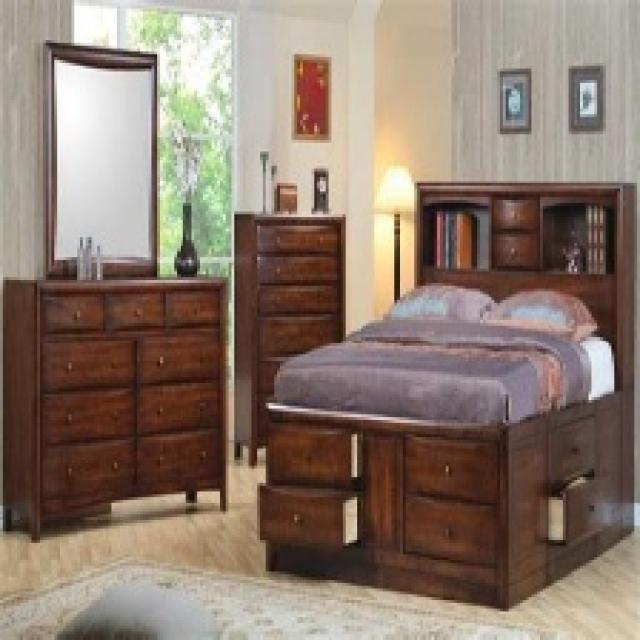Bed: (257, 180, 637, 611)
